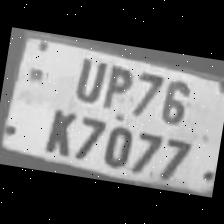0: (98, 116, 134, 168)
6: (154, 72, 194, 125)
7: (153, 129, 193, 183), (68, 107, 106, 162), (126, 66, 162, 120), (127, 122, 164, 174)
K: (38, 99, 80, 158)
P: (97, 58, 136, 111)
U: (68, 50, 108, 104)
